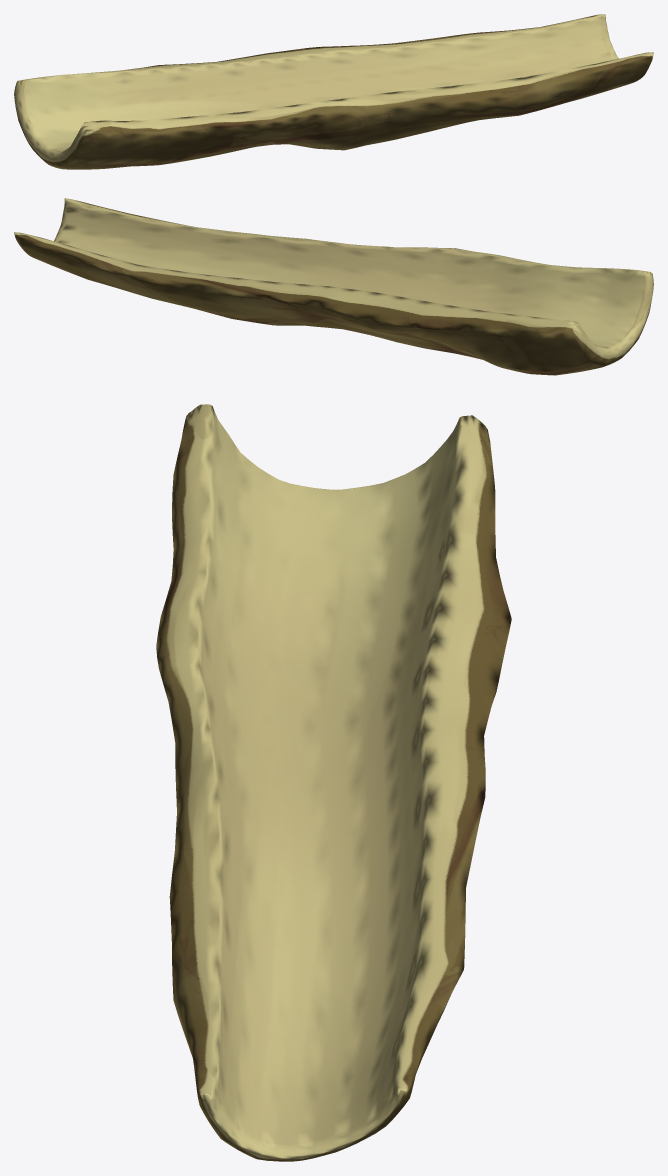
The model's file is log1_2.fbx.
3 views of the same model, one above another, from view 1: azimuth 30°, elevation 25°; view 2: azimuth 150°, elevation 25°; view 3: azimuth 270°, elevation 25° (orthographic). The views are drawn at different scales.
Visible parts, largest first — view 1: polySurface9; view 2: polySurface9; view 3: polySurface9.
Part boxes in pixels (bbox=[...]): polySurface9: bbox=[14, 14, 653, 169]; polySurface9: bbox=[14, 198, 653, 375]; polySurface9: bbox=[156, 404, 511, 1161].
Bounding box in the file's own units: 820 × 151 × 218.
Materials: 1 (1 with a texture image).
